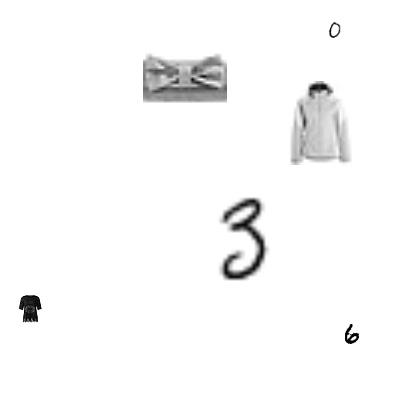0: (323, 19, 345, 41)
3: (188, 183, 300, 295)
6: (337, 321, 365, 349)
Bag: (143, 36, 227, 120)
Coat: (279, 81, 363, 165)
T-shirt/top: (16, 295, 44, 323)
